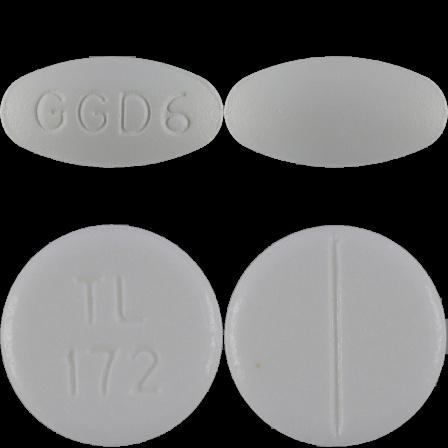50436-1496: (0, 0, 224, 224)
